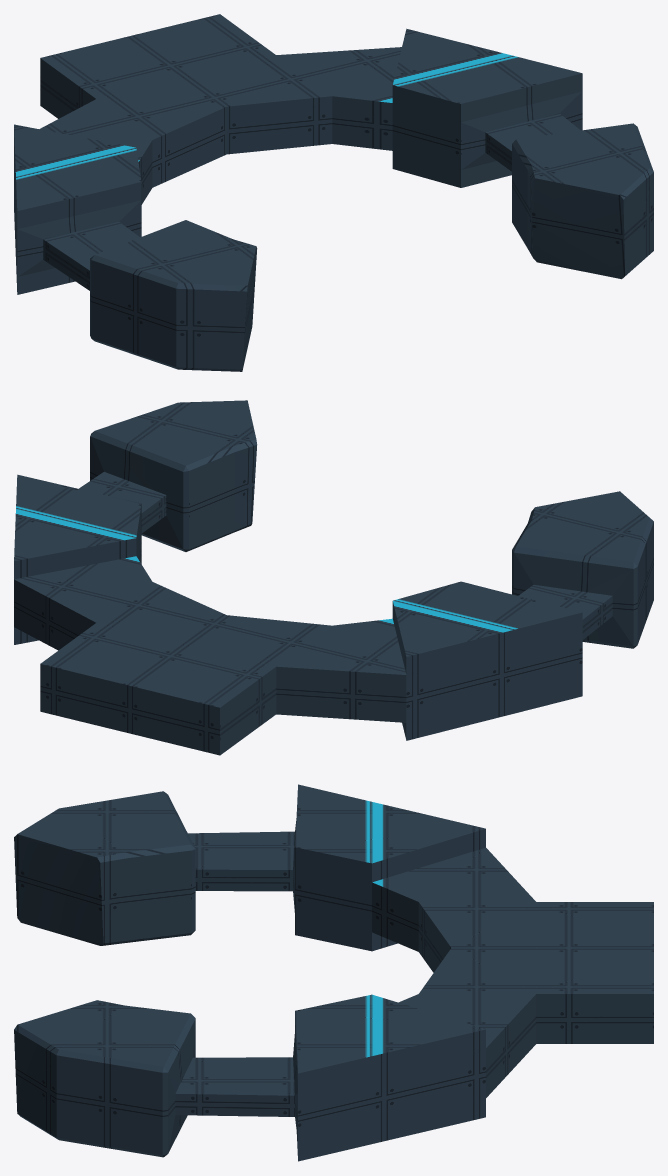
Rendered from Brazo_Superior.obj.
3 renders of one model, top to bottom at view 1: azimuth 30°, elevation 25°; view 2: azimuth 150°, elevation 25°; view 3: azimuth 270°, elevation 25°, orthographic. The views are drawn at different scales.
Visible parts, largest first — view 1: mount1_Cube; view 2: mount1_Cube; view 3: mount1_Cube.
Boxes of the visible parts, x1=… form: mount1_Cube: x1=14, y1=14, x2=653, y2=371; mount1_Cube: x1=14, y1=400, x2=653, y2=755; mount1_Cube: x1=14, y1=784, x2=653, y2=1161.
Bounding box in the file's own units: 10.29 × 1.51 × 9.63.
1 material, 1 textured.
